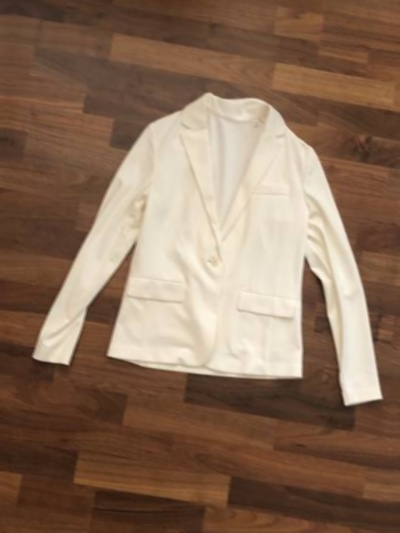Blazer: (18, 61, 400, 438)
